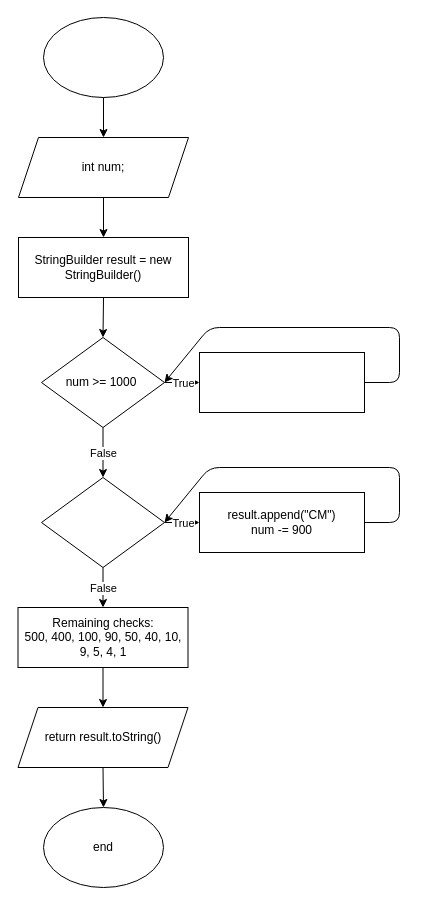
Some shapes in this 425 by 905 pixel diagram are drawn without their labels. Each missing label, with the box of its shape:
num >= 900: (40, 476, 164, 568)
result.append("M") num -= 1000: (198, 352, 364, 412)
start: (42, 16, 164, 98)
